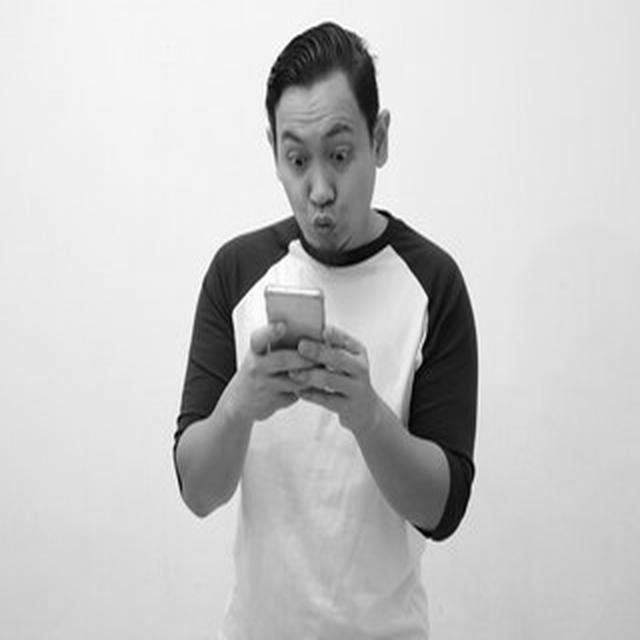Surprised: (274, 79, 374, 261)
